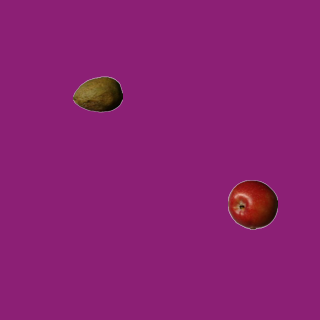Apple Braeburn: (227, 179, 277, 229)
Papaya: (72, 69, 122, 119)
